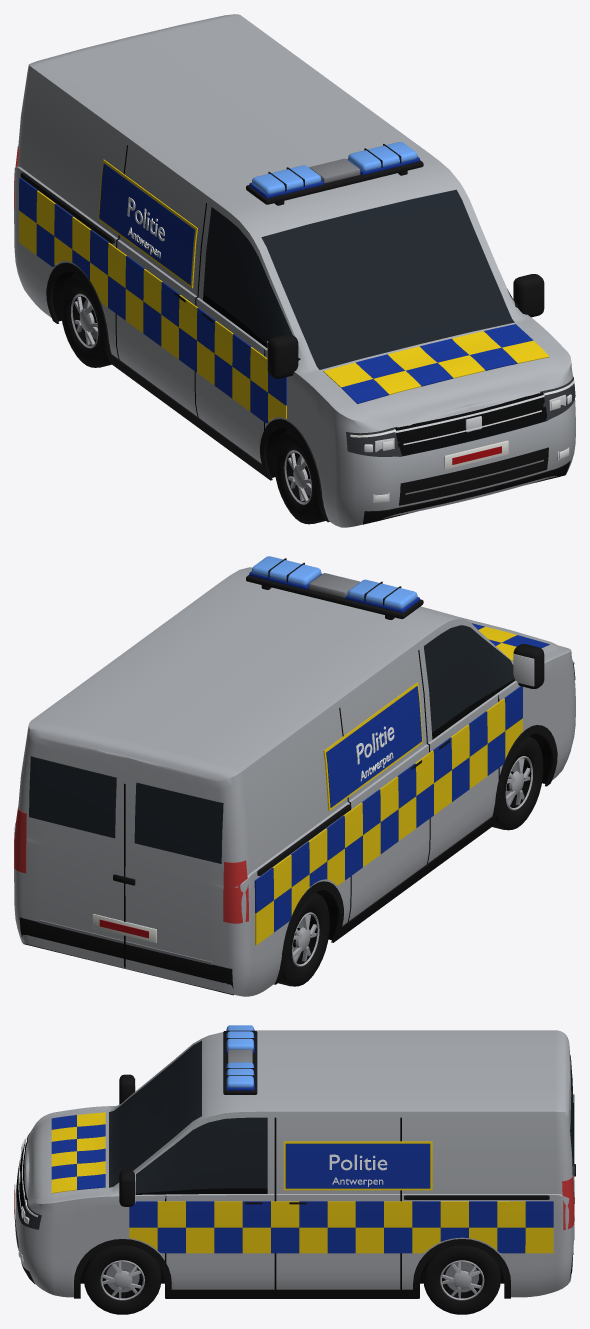
Rendered from politie_transporter.glb.
The picture shows the model from 3 angles, top to bottom: view 1: azimuth 30°, elevation 25°; view 2: azimuth 150°, elevation 25°; view 3: azimuth 270°, elevation 25°; orthographic projection. The views are drawn at different scales.
Parts seen in each view (by area): view 1: body, wheel-front-right, wheel-back-right; view 2: body, wheel-back-right, wheel-front-right; view 3: body, wheel-front-left, wheel-back-left, decal.
Boxes of the visible parts, <box> form: body: <box>14,14,575,527</box>; wheel-front-right: <box>274,430,325,524</box>; wheel-back-right: <box>60,274,111,367</box>; body: <box>14,556,575,996</box>; wheel-back-right: <box>278,892,329,986</box>; wheel-front-right: <box>492,736,543,830</box>; body: <box>14,1025,575,1298</box>; wheel-front-left: <box>84,1245,161,1314</box>; wheel-back-left: <box>423,1245,500,1314</box>; decal: <box>329,1154,387,1170</box>.
Size of the model in its own units: 2.2 by 2.14 by 4.97.
